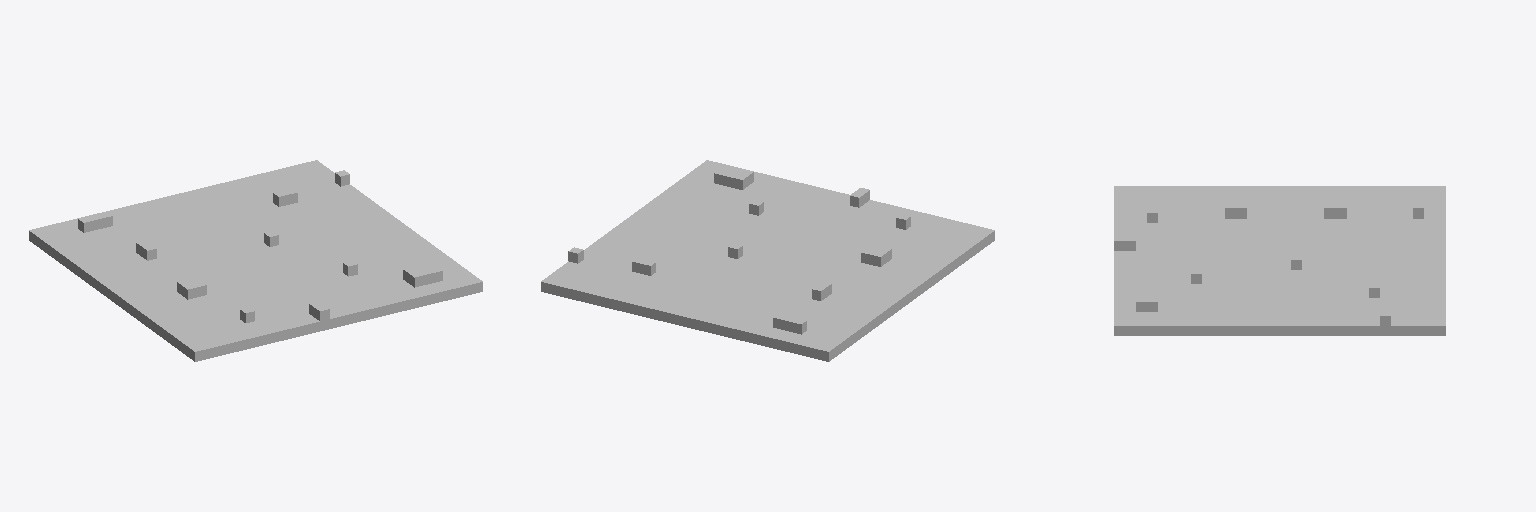
Rendered from ground.obj.
3 renders of one model, left to right at view 1: azimuth 30°, elevation 25°; view 2: azimuth 150°, elevation 25°; view 3: azimuth 270°, elevation 25°, orthographic.
Bounding box in the file's own units: 30 × 2 × 30.